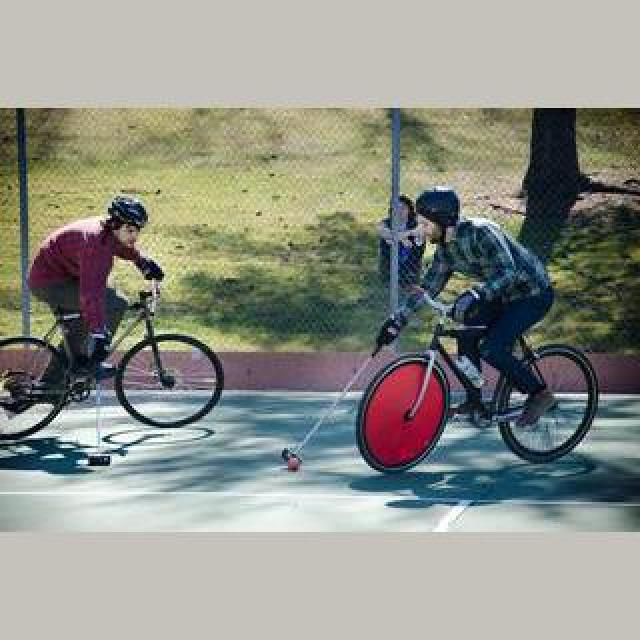MC-Bike: (382, 190, 556, 418), (26, 194, 166, 404)
Person: (359, 301, 601, 473), (0, 275, 222, 439)
